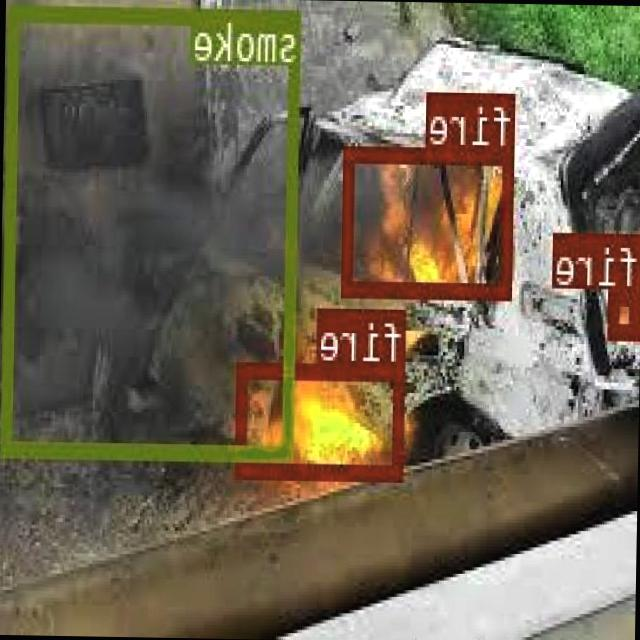fire: (344, 143, 516, 297), (238, 359, 407, 478), (611, 287, 640, 336)
smoke: (4, 4, 302, 458)
